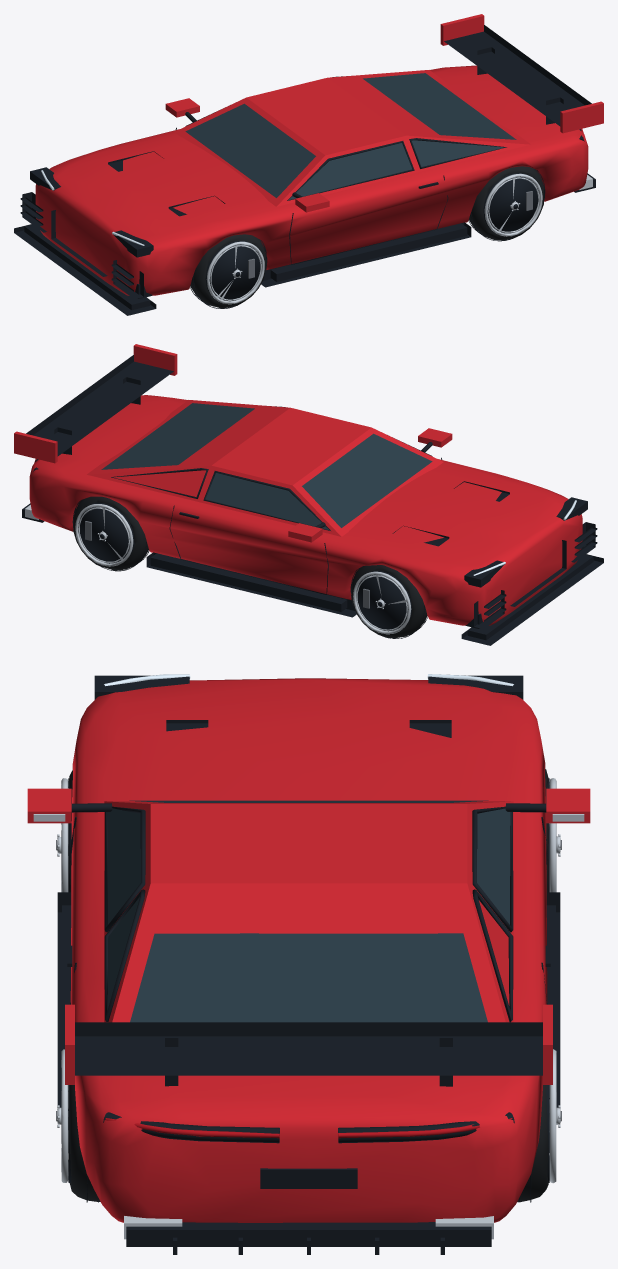
Rendered from car2.glb.
3 renders of one model, top to bottom at view 1: azimuth 30°, elevation 25°; view 2: azimuth 150°, elevation 25°; view 3: azimuth 270°, elevation 25°, orthographic. The views are drawn at different scales.
Parts seen in each view (by area): view 1: SPORT | Low sculpted body, SPORT | Swept coupe roof, SPORT | Long door window, SPORT | Wheel cap inset, SPORT | Wide central intake, SPORT | Road tire.002, SPORT | Machined rim lip.003; view 2: SPORT | Low sculpted body, SPORT | Swept coupe roof, SPORT | Long door window, SPORT | Wheel cap inset, SPORT | Wide central intake, SPORT | Road tire.002, SPORT | Machined rim lip.003; view 3: SPORT | Low sculpted body, SPORT | Swept coupe roof, SPORT | Long door window, SPORT | Wide central intake, SPORT | Wheel cap inset, SPORT | Machined rim lip.003, SPORT | Road tire.002, SPORT | Red tail signature.
Boxes of the visible parts, x1,y1,x2,y2 form: SPORT | Low sculpted body: (35,65,588,295); SPORT | Swept coupe roof: (174,14,603,206); SPORT | Long door window: (185,73,516,200); SPORT | Wheel cap inset: (24,76,595,310); SPORT | Wide central intake: (14,25,591,315); SPORT | Road tire.002: (190,166,544,308); SPORT | Machined rim lip.003: (206,173,592,304); SPORT | Low sculpted body: (29,395,582,625); SPORT | Swept coupe roof: (14,344,443,536); SPORT | Long door window: (101,403,432,530); SPORT | Wheel cap inset: (22,406,593,640); SPORT | Wide central intake: (26,355,603,645); SPORT | Road tire.002: (73,496,427,638); SPORT | Machined rim lip.003: (25,504,411,634); SPORT | Low sculpted body: (27,678,590,1222); SPORT | Swept coupe roof: (65,801,552,1084); SPORT | Long door window: (107,800,510,1022); SPORT | Wide central intake: (57,720,560,1110); SPORT | Wheel cap inset: (56,675,561,1254); SPORT | Machined rim lip.003: (33,778,584,1239); SPORT | Road tire.002: (69,769,548,1202); SPORT | Red tail signature: (105,1118,512,1138).
Size of the model in its own units: 5.04 by 1.19 by 2.54.
